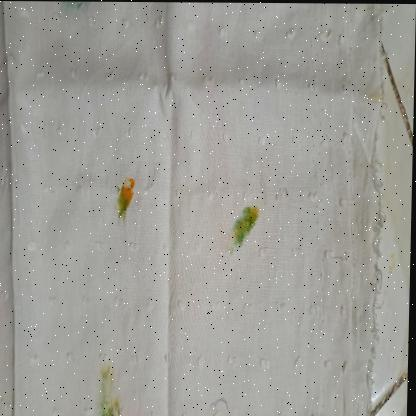spot: (229, 200, 263, 253), (96, 359, 125, 416), (115, 169, 138, 218), (0, 276, 7, 362)
